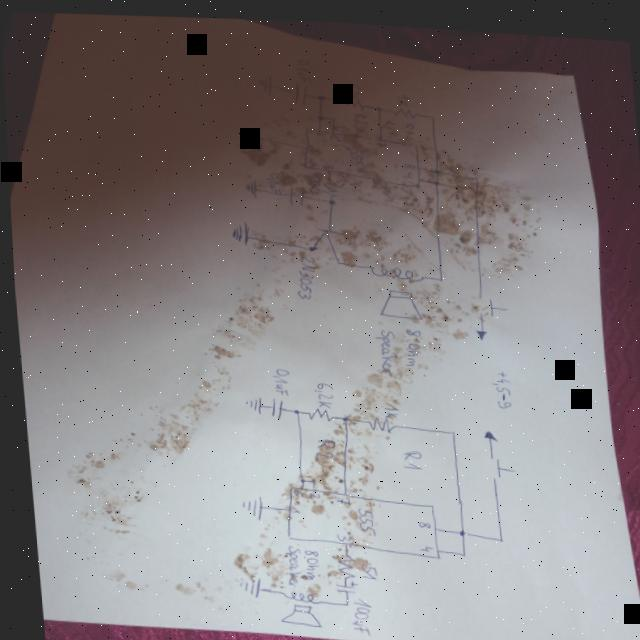capacitor: (285, 180, 305, 204), (263, 392, 281, 416), (290, 78, 308, 100), (328, 575, 353, 589)
ground: (234, 490, 261, 518), (230, 571, 257, 595), (227, 215, 249, 243), (239, 390, 263, 412), (244, 124, 262, 148), (256, 69, 274, 92), (241, 174, 257, 195)
junction: (338, 409, 347, 419), (429, 161, 439, 169), (288, 403, 297, 411), (430, 171, 438, 180), (325, 193, 334, 201), (444, 422, 452, 429), (317, 89, 325, 96), (315, 110, 323, 117), (452, 523, 461, 529), (375, 99, 382, 106), (328, 111, 335, 118), (492, 529, 499, 535), (435, 269, 441, 276), (454, 544, 460, 551), (293, 471, 299, 478), (471, 169, 478, 174), (429, 108, 435, 113), (305, 474, 311, 479), (337, 597, 343, 601)
resistor: (361, 409, 394, 428), (330, 547, 351, 575), (300, 400, 330, 417), (319, 171, 337, 193), (340, 91, 365, 106), (391, 100, 414, 112)
source: (477, 421, 494, 436), (470, 321, 486, 334)
switch: (481, 446, 513, 476), (473, 286, 507, 312)
text: (368, 321, 396, 372), (291, 247, 319, 297), (343, 592, 368, 632), (397, 321, 420, 363), (487, 362, 509, 403), (277, 539, 297, 583), (307, 430, 333, 458), (349, 501, 371, 532), (308, 375, 330, 405), (296, 544, 316, 576), (266, 362, 287, 392), (395, 441, 419, 465), (345, 142, 366, 164), (262, 166, 281, 190), (294, 52, 311, 77), (352, 556, 372, 576), (378, 395, 396, 414), (343, 76, 360, 96), (324, 488, 347, 502), (304, 171, 320, 190), (350, 106, 368, 122), (400, 115, 416, 132), (330, 527, 346, 538), (400, 154, 414, 164), (401, 165, 413, 175), (373, 132, 386, 141), (414, 539, 428, 547), (413, 515, 427, 523), (302, 487, 316, 495), (279, 157, 291, 166), (320, 159, 333, 166), (285, 502, 295, 510), (288, 485, 298, 493), (313, 126, 324, 133), (307, 142, 317, 149), (327, 129, 337, 135)
transistor: (303, 220, 341, 261)
